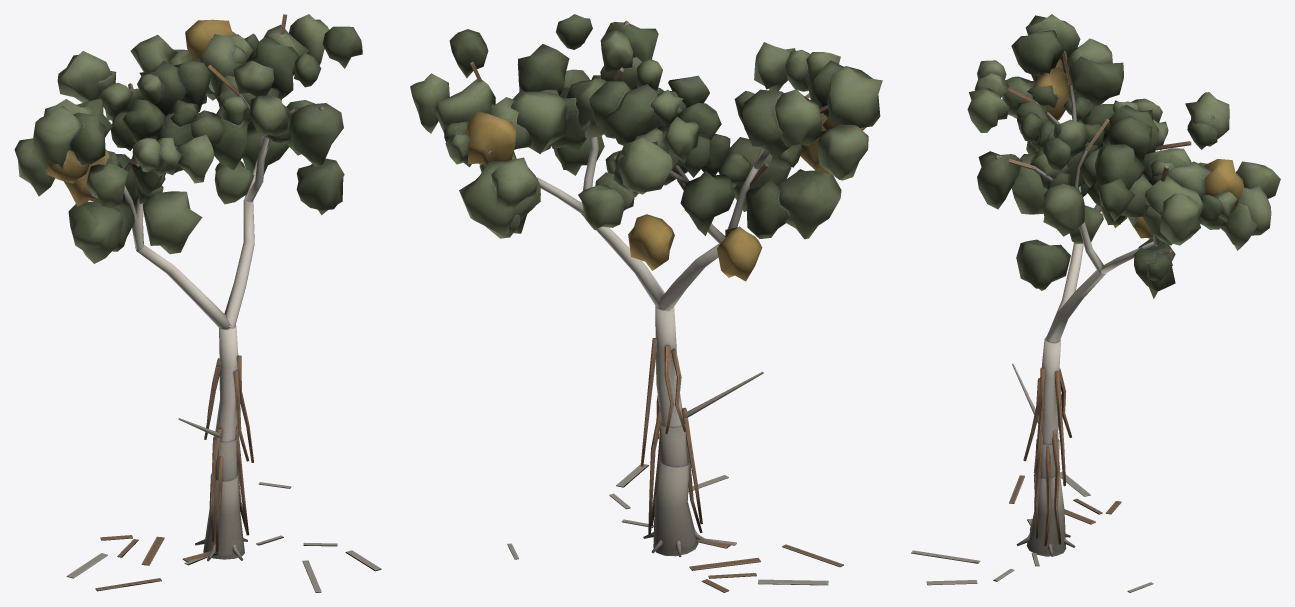
File: gum_tree_c.glb
The picture shows the model from 3 angles, left to right: view 1: azimuth 30°, elevation 25°; view 2: azimuth 150°, elevation 25°; view 3: azimuth 270°, elevation 25°; orthographic projection. The views are drawn at different scales.
Visible parts, largest first — view 1: gum_tree_c; view 2: gum_tree_c; view 3: gum_tree_c.
Part boxes in pixels (box(x1,y1,x2,y2)): gum_tree_c: box(14, 14, 381, 592); gum_tree_c: box(410, 14, 882, 592); gum_tree_c: box(911, 14, 1280, 592).
Size of the model in its own units: 7.02 by 8.93 by 6.53.
1 material, 1 textured.
